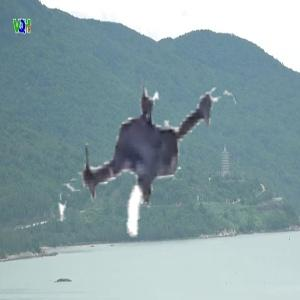drone: (42, 60, 248, 266)
